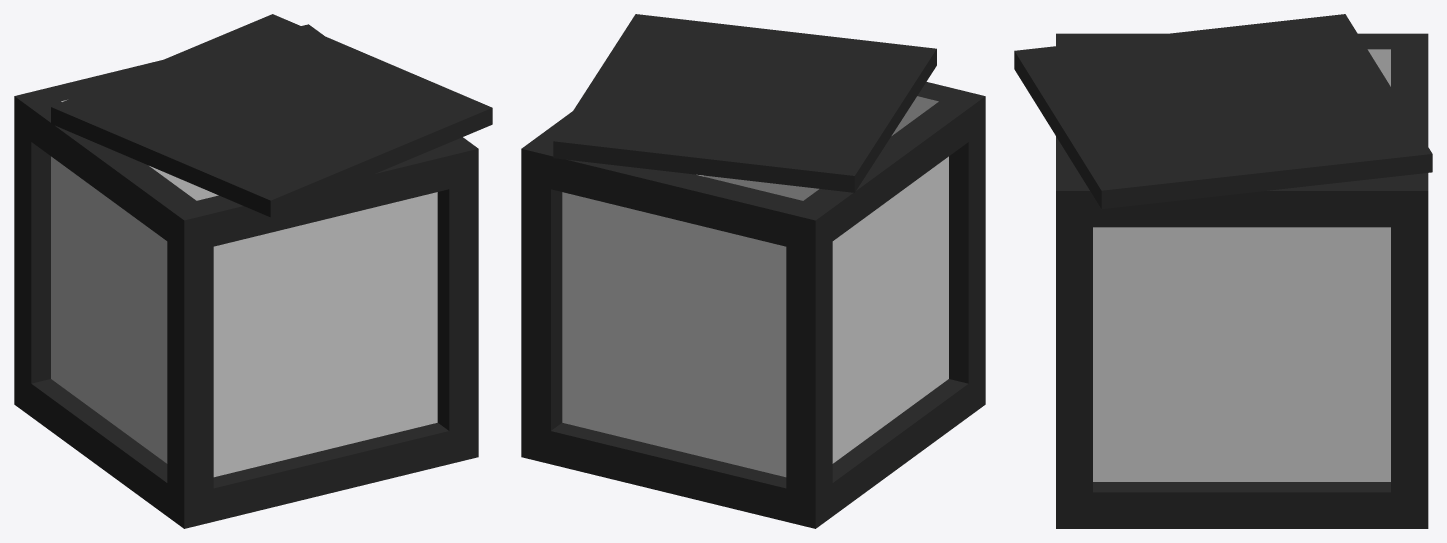
File: Barricade_0.fbx
The picture shows the model from 3 angles, left to right: view 1: azimuth 30°, elevation 25°; view 2: azimuth 150°, elevation 25°; view 3: azimuth 270°, elevation 25°; orthographic projection. The views are drawn at different scales.
Parts seen in each view (by area): view 1: Model_0; view 2: Model_0; view 3: Model_0.
Boxes of the visible parts, box(x1,y1,x2,y2) form: Model_0: box(14, 14, 492, 528); Model_0: box(521, 14, 985, 528); Model_0: box(1014, 14, 1432, 528).
Size of the model in its own units: 1.68 by 1.58 by 1.68.
